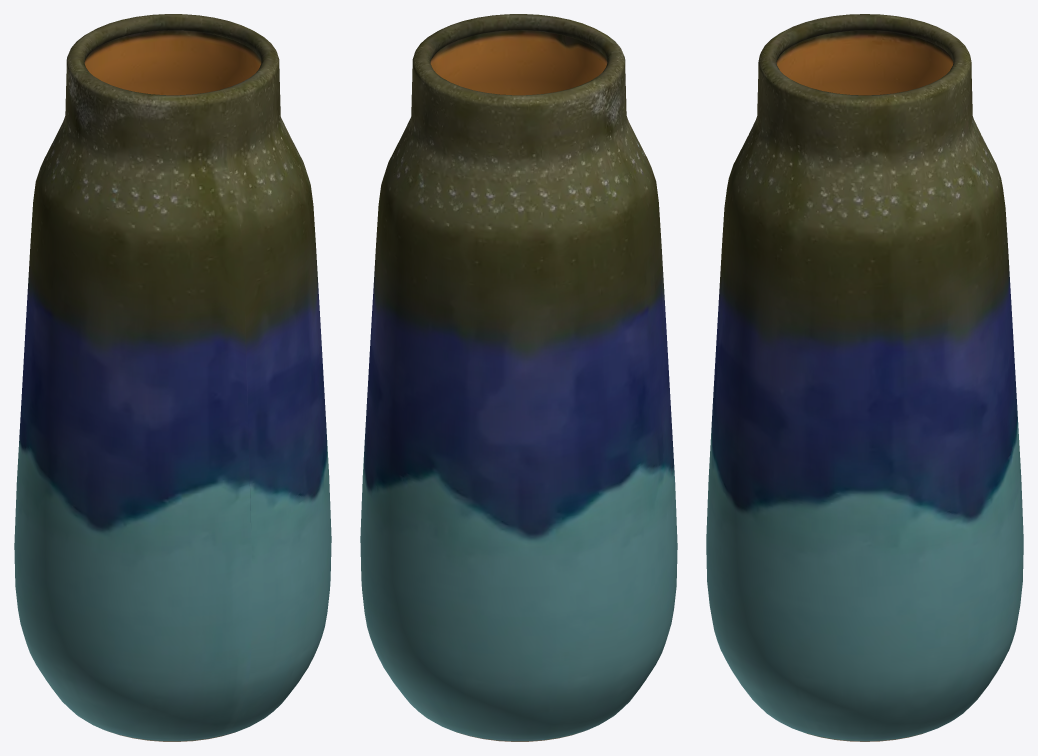
The model's file is B078JMJC49.glb.
3 views of the same model, side by side, from view 1: azimuth 30°, elevation 25°; view 2: azimuth 150°, elevation 25°; view 3: azimuth 270°, elevation 25° (orthographic).
Visible parts, largest first — view 1: RootNode; view 2: RootNode; view 3: RootNode.
Boxes of the visible parts, box(x1,y1,x2,y2) form: RootNode: box(14, 14, 331, 741); RootNode: box(360, 14, 677, 741); RootNode: box(706, 14, 1023, 741).
Bounding box in the file's own units: 0.1386 × 0.3126 × 0.1386.
Materials: 1 (1 with a texture image).
